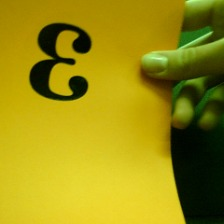orange3: (29, 17, 96, 108)
